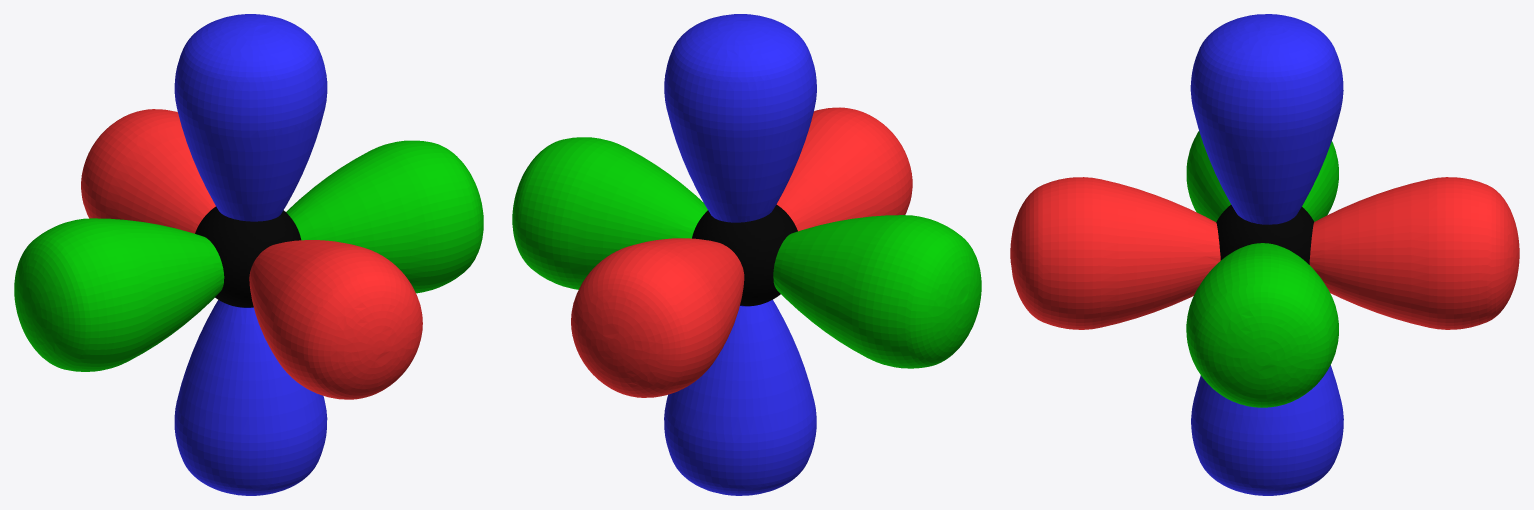
Rendered from 3Orbital_s+pxyz.glb.
The picture shows the model from 3 angles, left to right: view 1: azimuth 30°, elevation 25°; view 2: azimuth 150°, elevation 25°; view 3: azimuth 270°, elevation 25°; orthographic projection.
Parts seen in each view (by area): view 1: root; view 2: root; view 3: root.
Part boxes in pixels (bbox=[...]): root: bbox=[14, 14, 483, 495]; root: bbox=[512, 14, 981, 495]; root: bbox=[1010, 14, 1519, 495].
Bounding box in the file's own units: 1.01 × 1.01 × 1.01.
